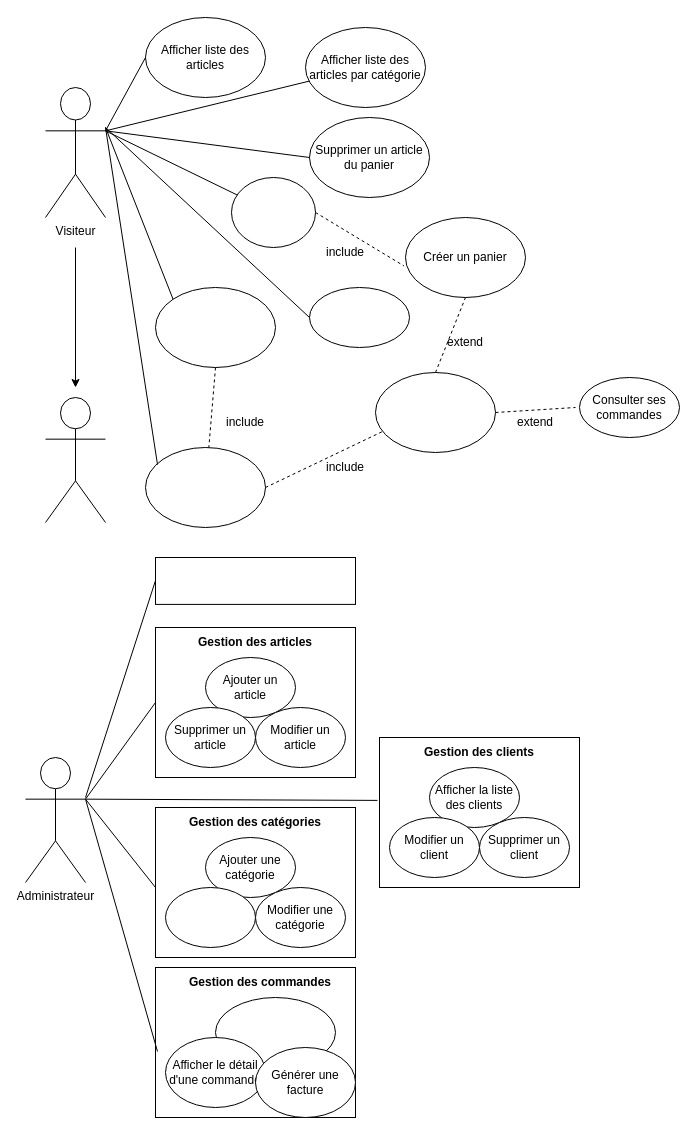
Some shapes in this 697 by 1145 pixel diagram are drawn without their labels. The centre of each missing label's shape, as x and y in pixels:
Ajouter un article au panier: (x=273, y=212)
Connexion: (x=215, y=327)
Consulter les commandes: (x=275, y=1032)
Créer compte client: (x=205, y=487)
Passer commande: (x=435, y=412)
Role d'User: (x=255, y=580)
Supprimer une catégorie: (x=210, y=917)
User: (x=75, y=459)
Voir panier: (x=359, y=317)
